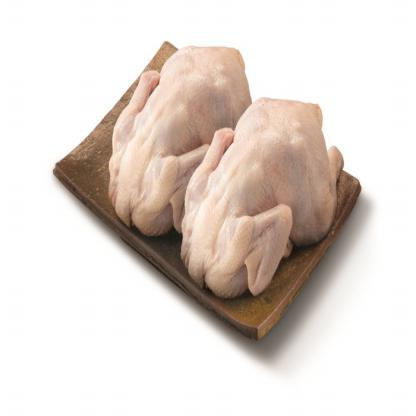chicken: (178, 93, 350, 319), (96, 34, 262, 245)
